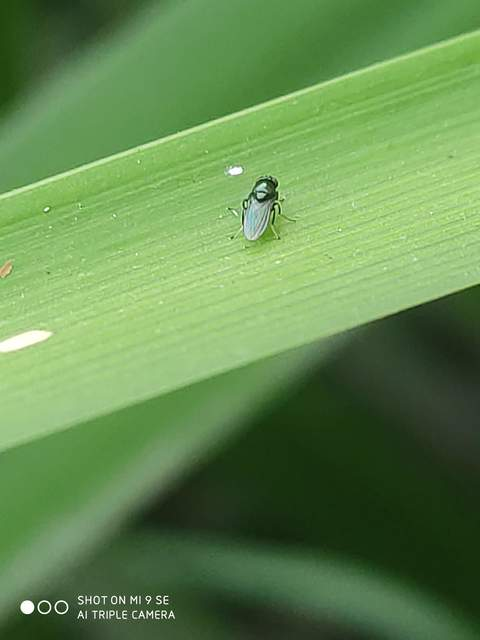Ephydridae: (227, 172, 295, 252)
